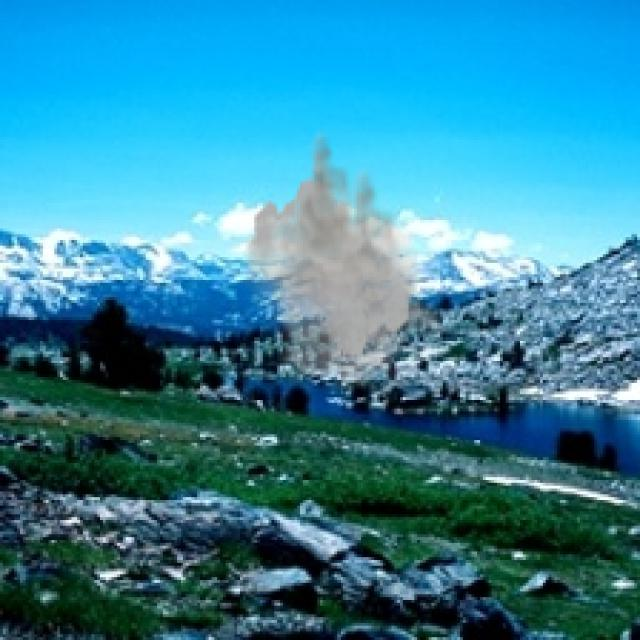smoke: (243, 126, 446, 394)
